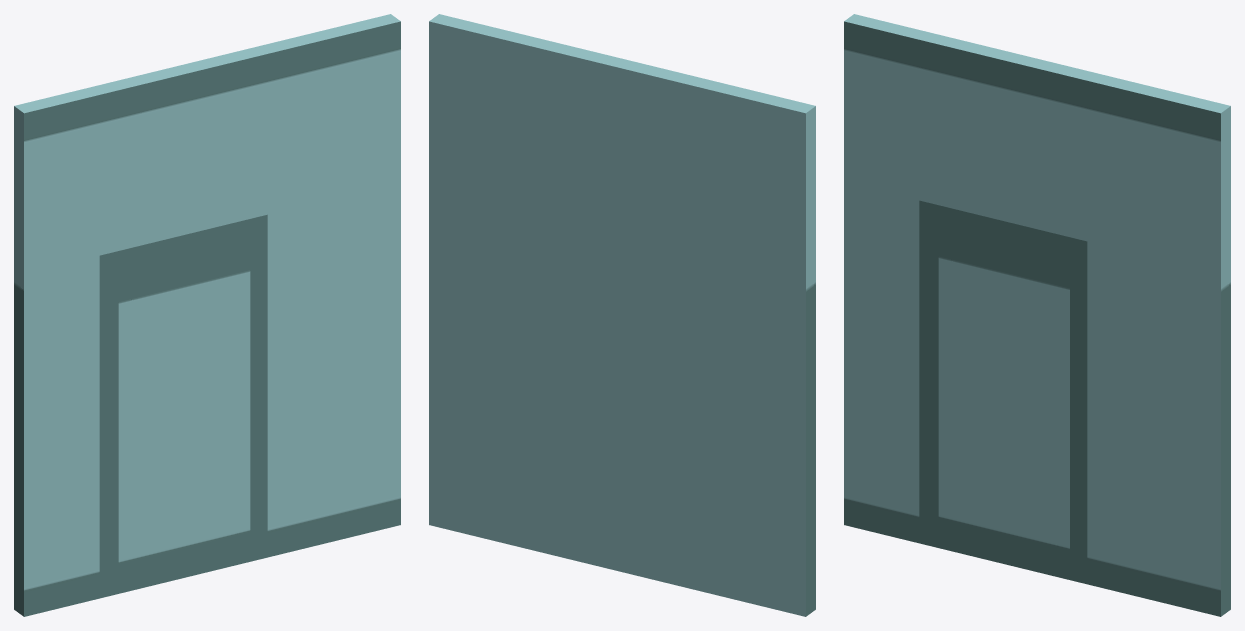
Rendered from paredSalaEsc.obj.
3 renders of one model, left to right at view 1: azimuth 30°, elevation 25°; view 2: azimuth 150°, elevation 25°; view 3: azimuth 330°, elevation 25°, orthographic.
Parts seen in each view (by area): view 1: pCube27; view 2: pCube27; view 3: pCube27.
Part boxes in pixels (box(x1,y1,x2,y2)): pCube27: box(14, 14, 400, 616); pCube27: box(429, 14, 815, 616); pCube27: box(844, 14, 1230, 616).
Bounding box in the file's own units: 2.23 × 2.85 × 0.104.
Materials: 2 (2 with a texture image).
